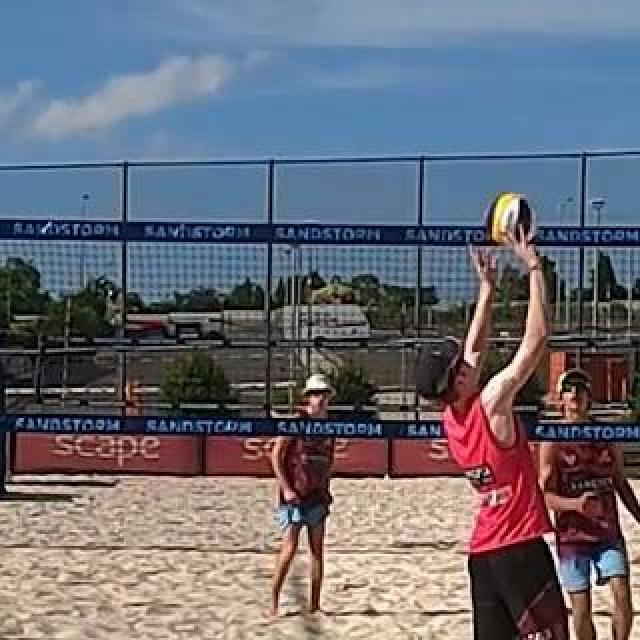volleyball: (483, 193, 537, 243)
